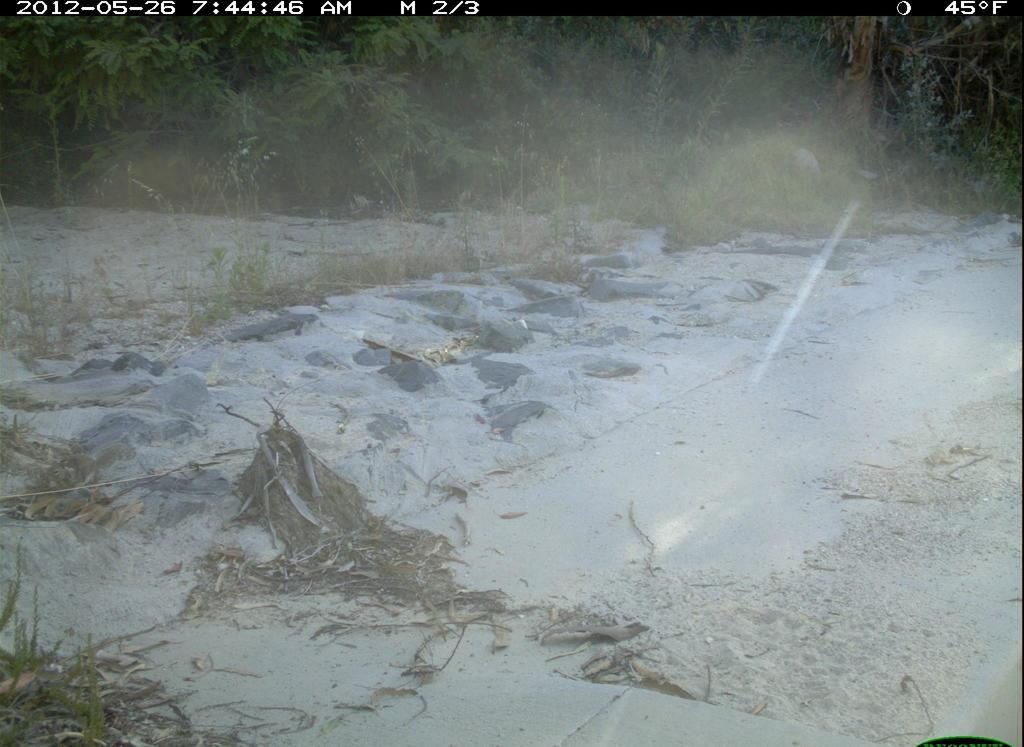squirrel: (45, 436, 141, 502)
